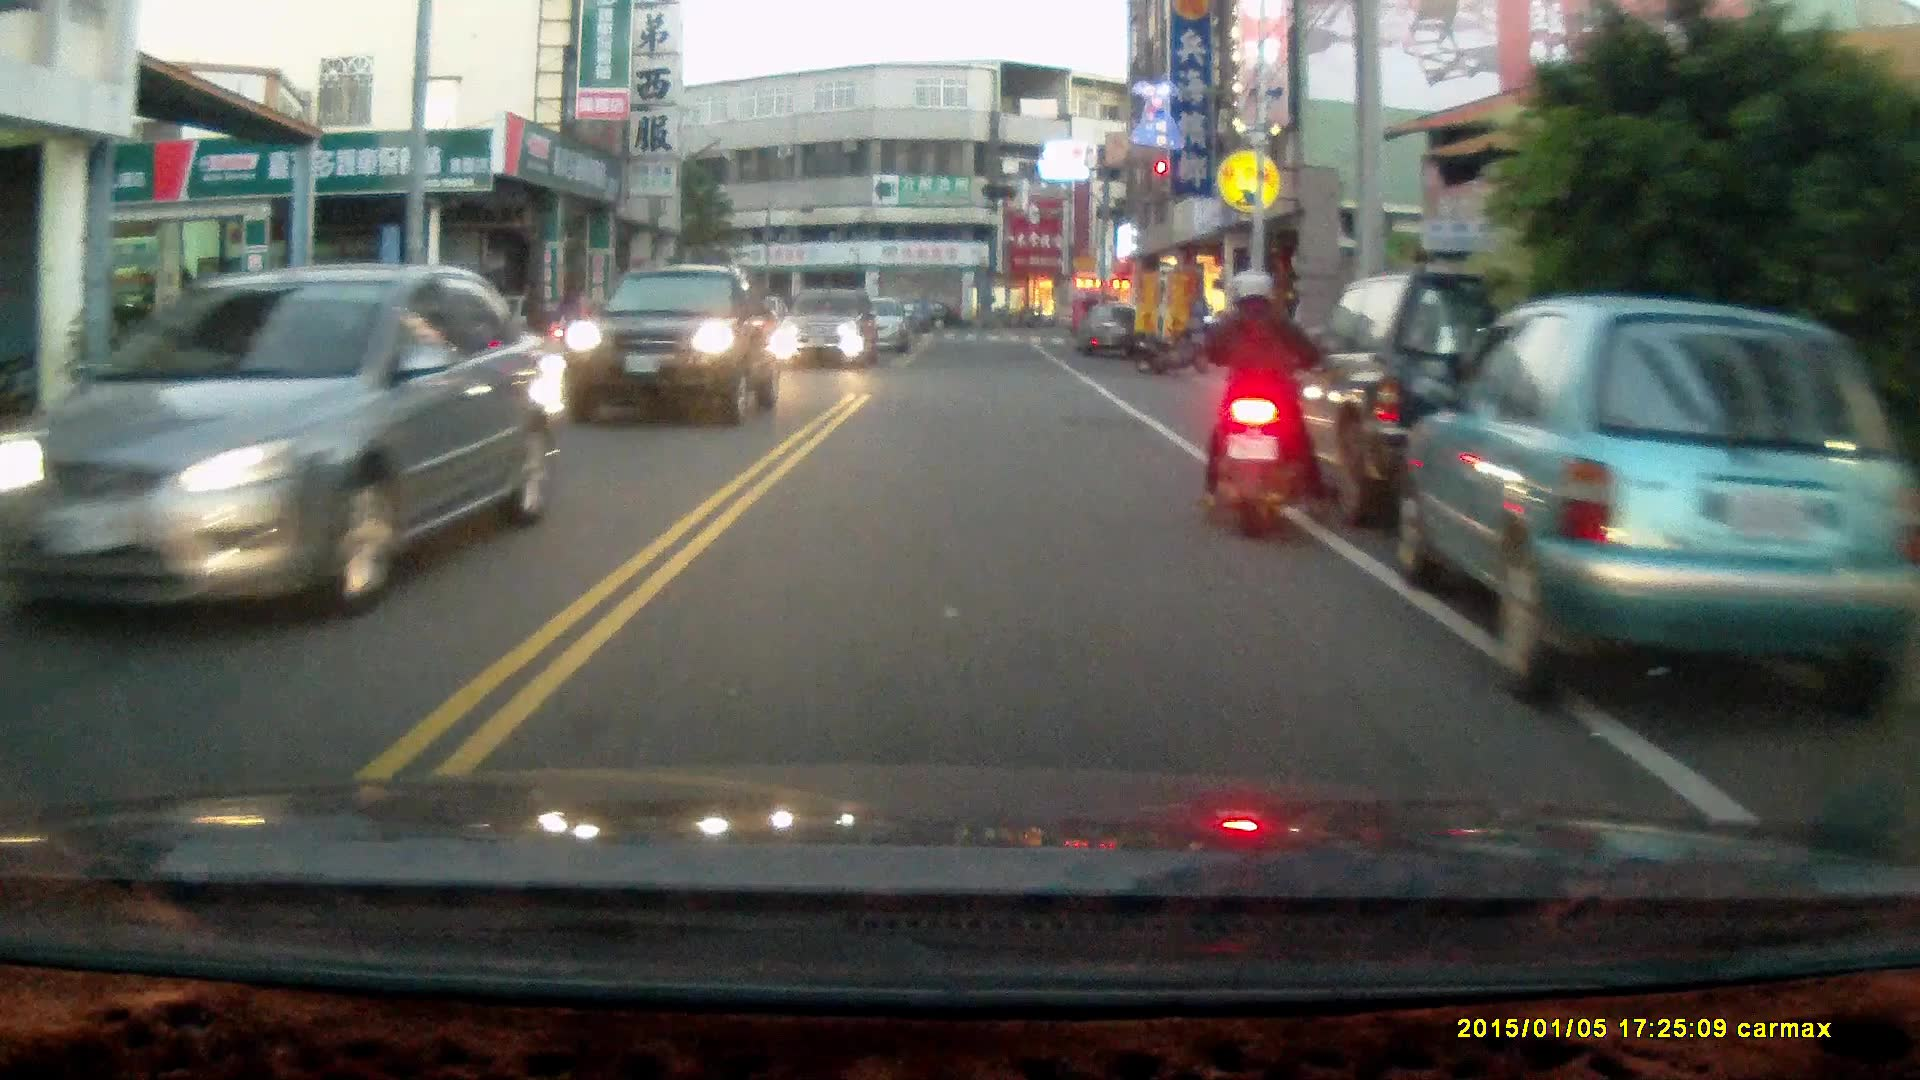rider: (1193, 264, 1328, 544)
vehicle: (1395, 294, 1867, 718), (30, 269, 575, 620), (1246, 269, 1627, 530), (564, 260, 769, 421), (772, 286, 883, 369), (1072, 301, 1142, 358)
